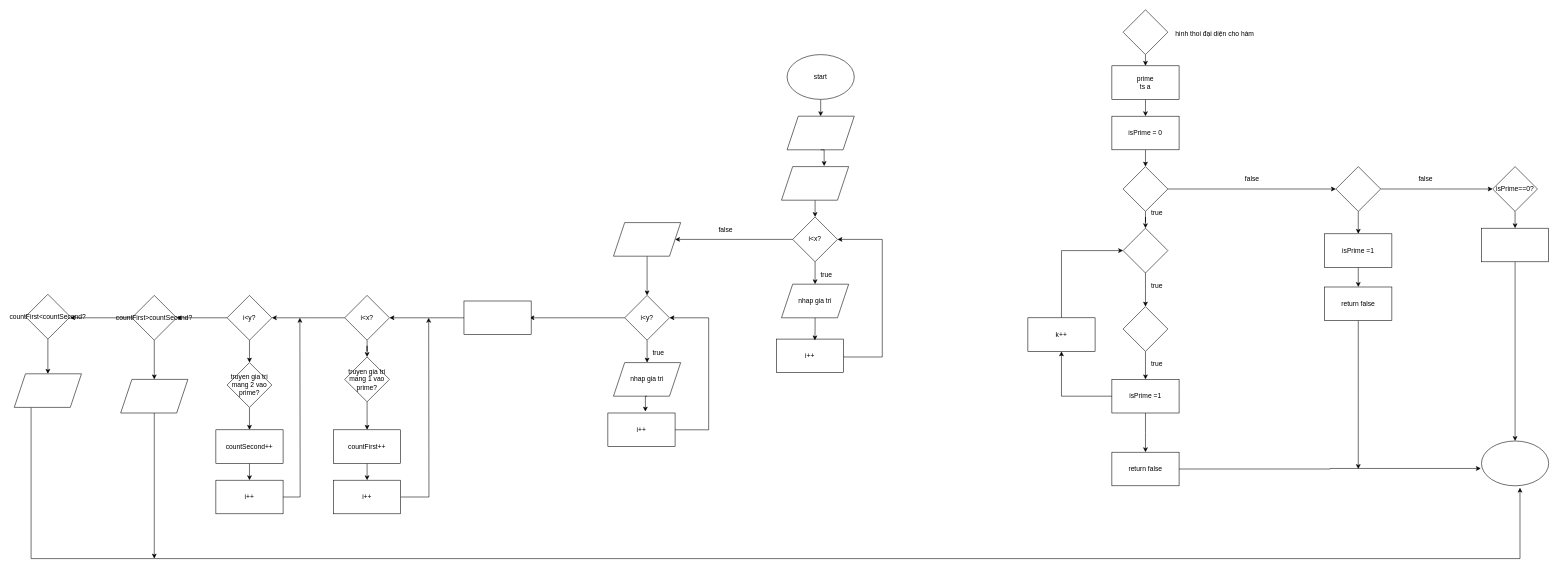
Image size: 1558x573. Some labels were removed from this diagram. Here are the shapes that lost their labels. From the top down, the centre of each, then its label:
At (1145,32): "prime?".
At (820,133): "x,y".
At (815,183): "nhap gia tri mang 1".
At (1145,188): "a>=2?".
At (1358,188): "a<2?".
At (647,239): "nhap gia tri mang 2".
At (1145,250): "k<sqrt(a)?".
At (1515,245): "return true".
At (497,317): "countFirst = 0 countSecond = 0".
At (1145,328): "a%k==0?".
At (47,390): "in ra so nguyen to mang 2".
At (154,396): "in ra so nguyen to mang 1".
At (1515,463): "end".
